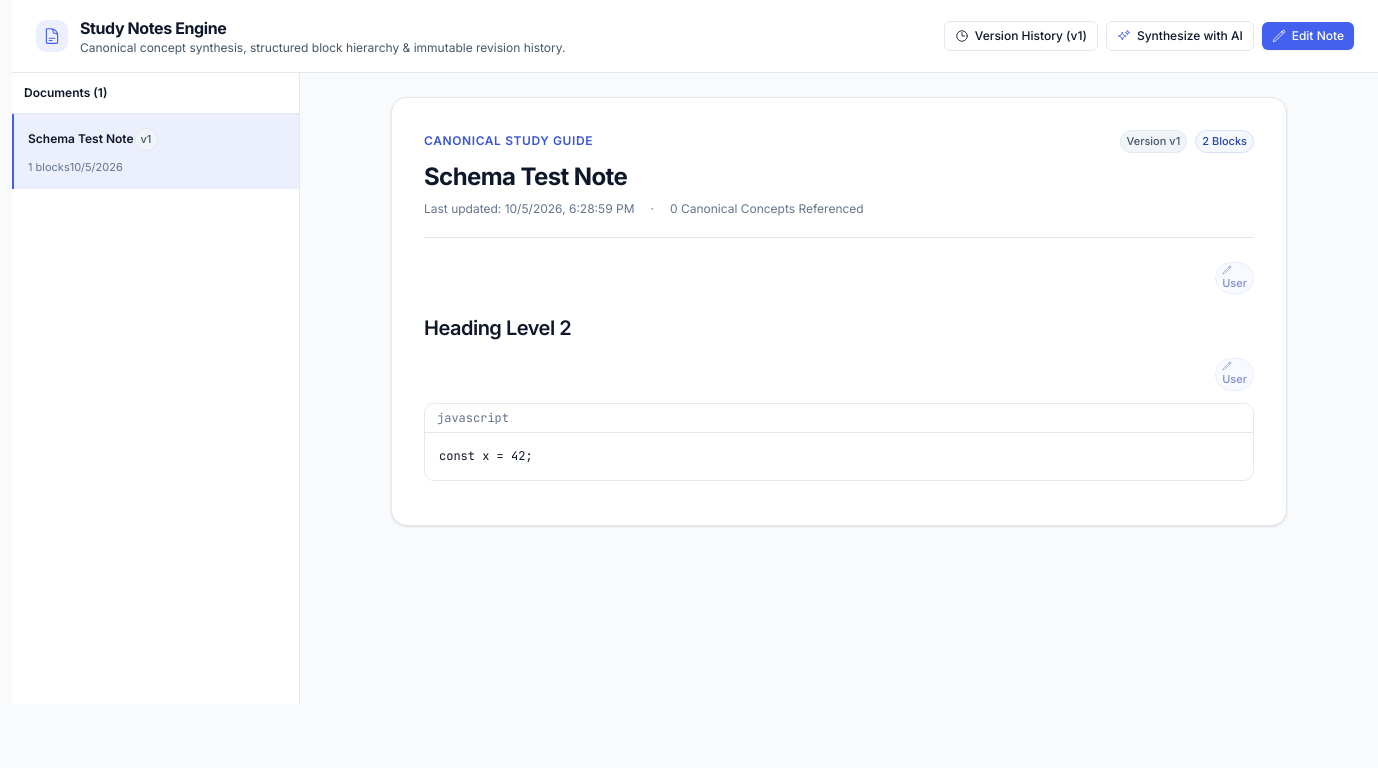
it: Structured Notes Engine Frontend Workflows (Phase 07) › aligns BlockEditor schema contracts: restricts heading levels to H1, H2, H3 and code to language + code
Expected: the text "Edit Note" is shown, [1292,28,1344,44]
Click the button "Edit Note" at x=1308, y=36, box [1262,22,1354,50]
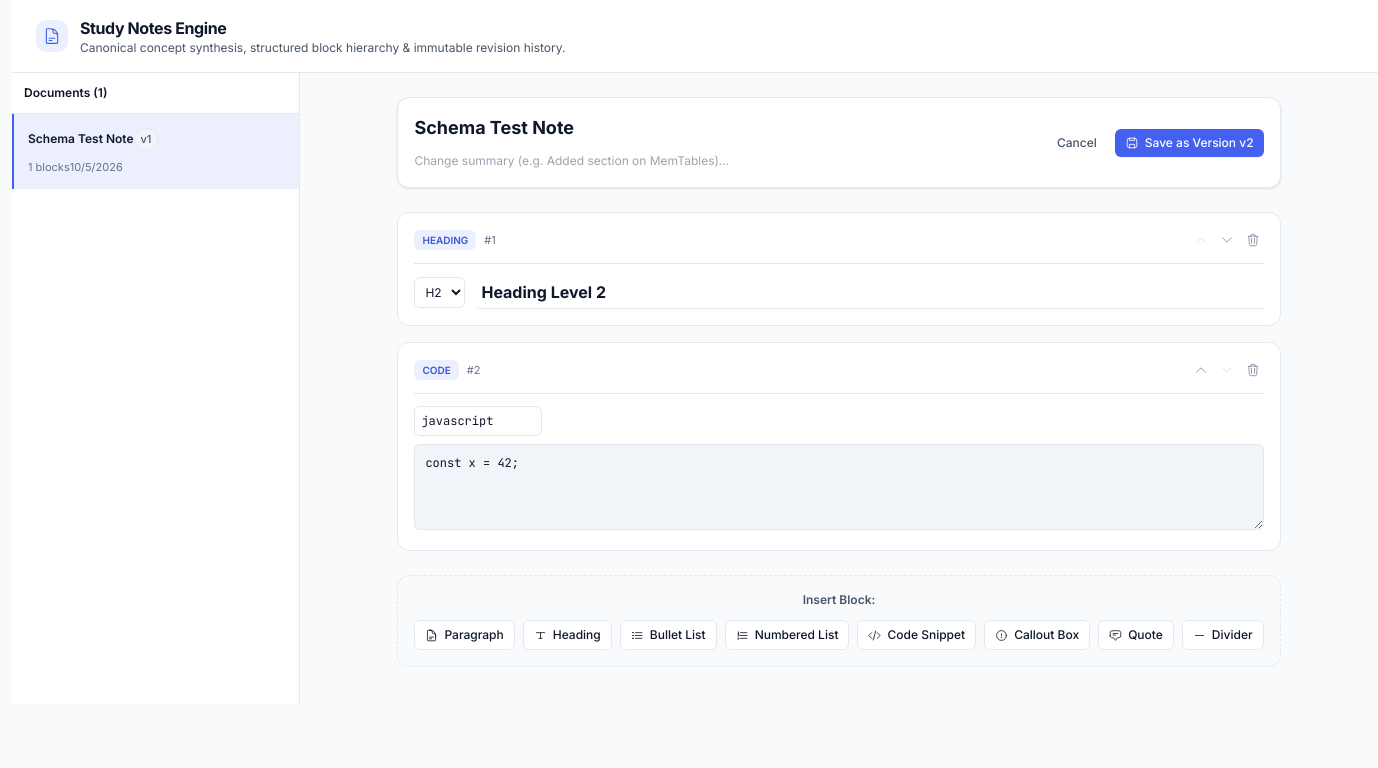
Now the dropdown is shown, box [414,277,465,308]
Now the 3rd field showing "javascript" is shown, box [414,406,542,436]
Now the text box showing "const x = 42;" is shown, box [414,444,1264,530]
